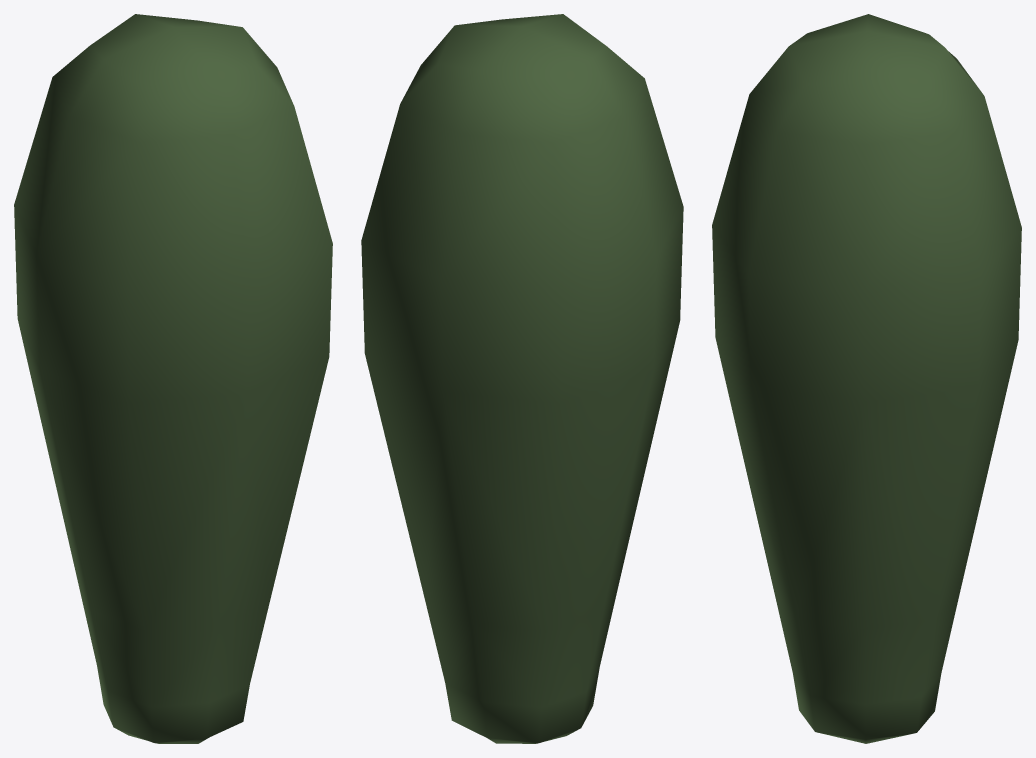
Rendered from cactus-quaternius.glb.
The picture shows the model from 3 angles, left to right: view 1: azimuth 30°, elevation 25°; view 2: azimuth 150°, elevation 25°; view 3: azimuth 270°, elevation 25°; orthographic projection.
Visible parts, largest first — view 1: Houseplant_3; view 2: Houseplant_3; view 3: Houseplant_3.
Part boxes in pixels (x1=…): Houseplant_3: x1=14, y1=14, x2=332, y2=743; Houseplant_3: x1=361, y1=14, x2=683, y2=743; Houseplant_3: x1=712, y1=14, x2=1021, y2=743.
Bounding box in the file's own units: 0.2499 × 0.6186 × 0.2499.
